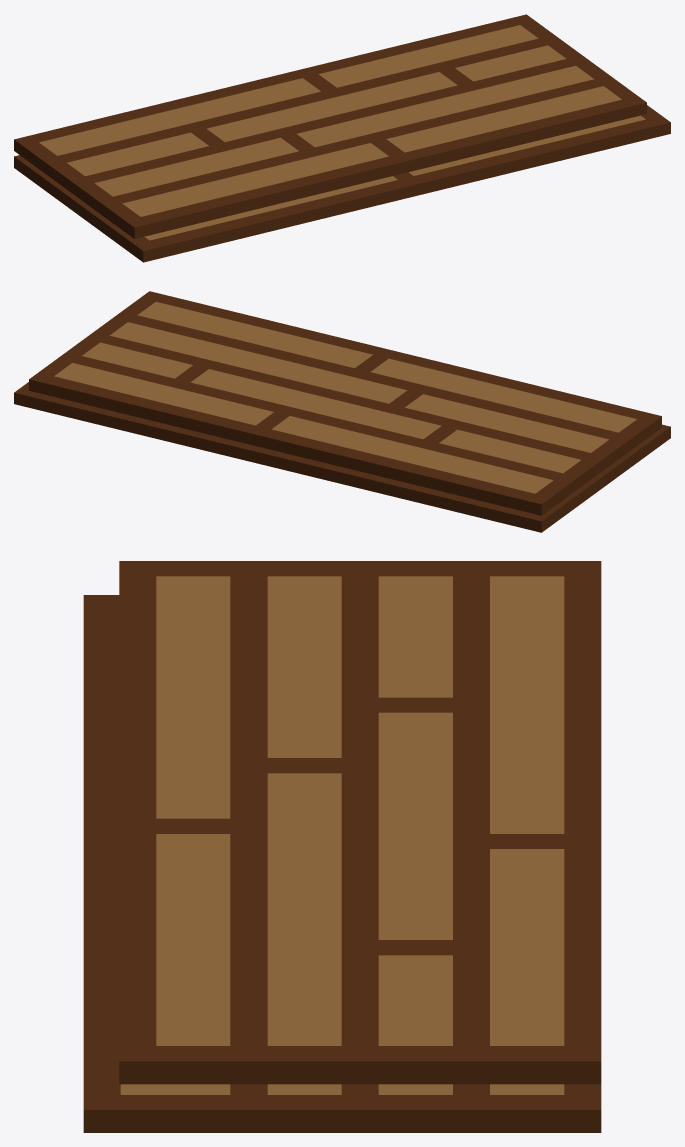
The model's file is FLoor.fbx.
3 renders of one model, top to bottom at view 1: azimuth 30°, elevation 25°; view 2: azimuth 150°, elevation 25°; view 3: azimuth 270°, elevation 25°, orthographic. The views are drawn at different scales.
Parts seen in each view (by area): view 1: Cube.002; view 2: Cube.002; view 3: Cube.002.
Boxes of the visible parts, <box> form: Cube.002: <box>14,14,670,262</box>; Cube.002: <box>14,291,670,532</box>; Cube.002: <box>83,561,601,1132</box>.
Size of the model in its own units: 7655 by 394 by 3251.
